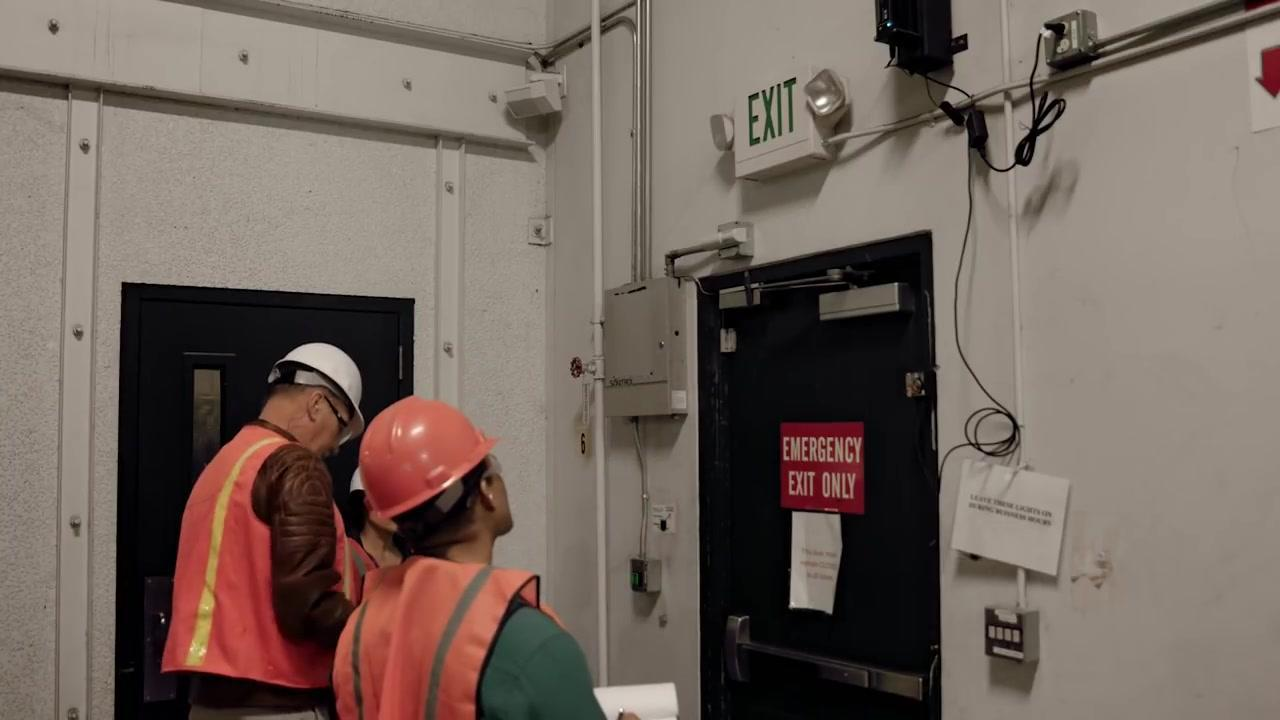vest: (153, 419, 357, 693), (322, 558, 561, 717)
